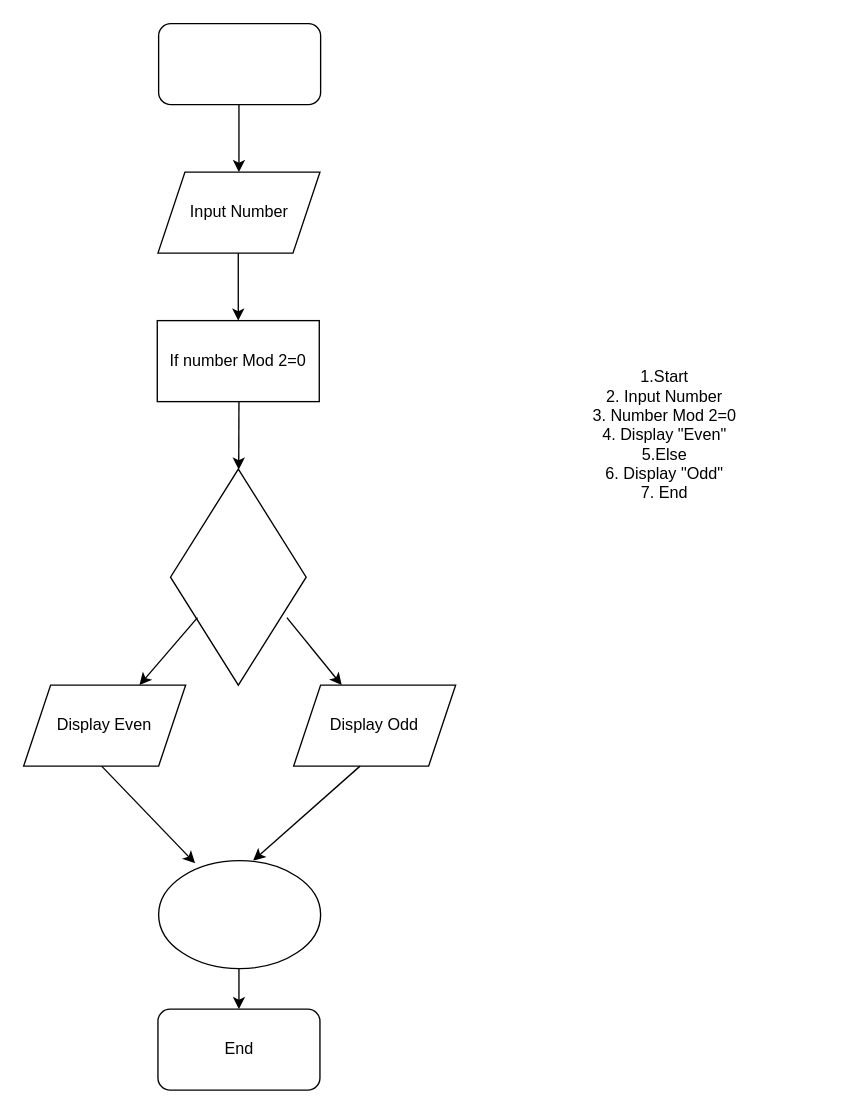
The diagram is 844 pixels wide and 1114 high, and some of its shapes have lost their labels. Each missing label, with the centre of its shape:
Decision: the point at 237,576
Start: the point at 239,63
